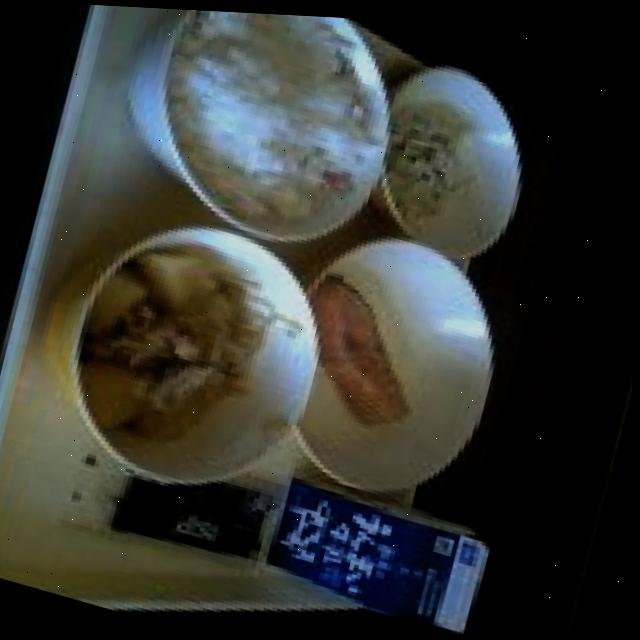熟制海鲜: (299, 250, 457, 426)
